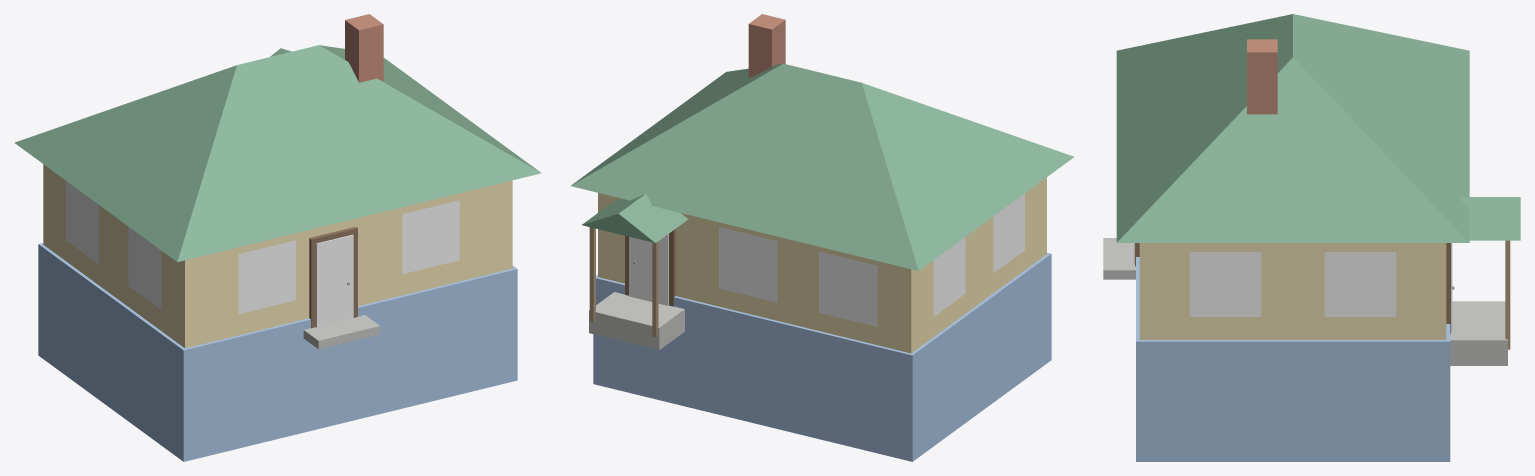
File: khata_b.glb
The picture shows the model from 3 angles, left to right: view 1: azimuth 30°, elevation 25°; view 2: azimuth 150°, elevation 25°; view 3: azimuth 270°, elevation 25°; orthographic projection. The views are drawn at different scales.
Visible parts, largest first — view 1: khata_b; view 2: khata_b; view 3: khata_b.
Boxes of the visible parts, x1,y1,x2,y2 form: khata_b: (14, 14, 541, 461); khata_b: (571, 14, 1073, 461); khata_b: (1103, 14, 1520, 461).
Size of what is drawn, in the model's own units: 8.9 by 7.9 by 8.16.
